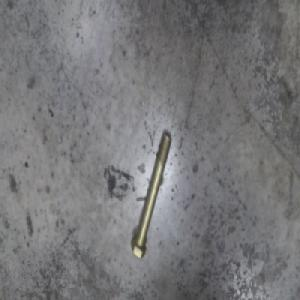Bolt: (130, 120, 172, 259)
